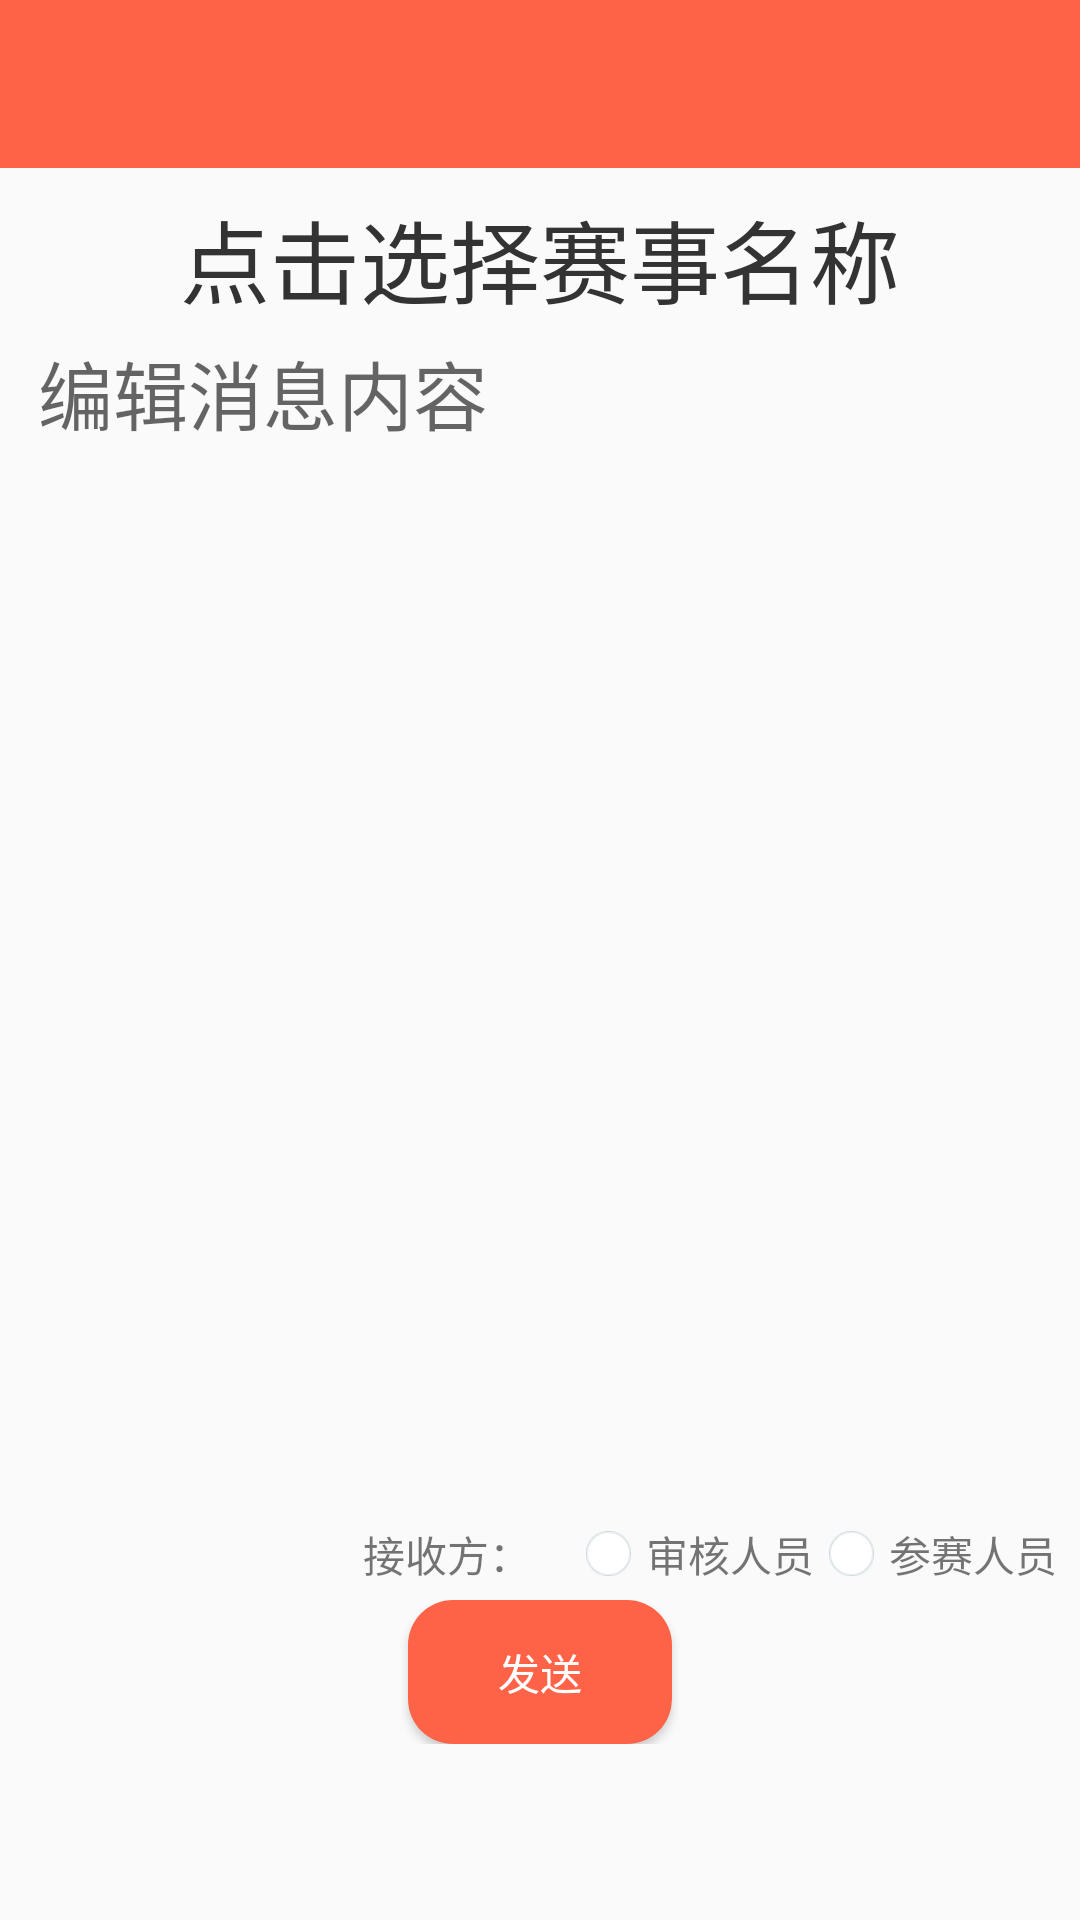

Where icons sit on this 1080*1920 app screen, as (x1,y1,x2,y2):
select: (586,1531,631,1576), (829,1531,874,1576)
